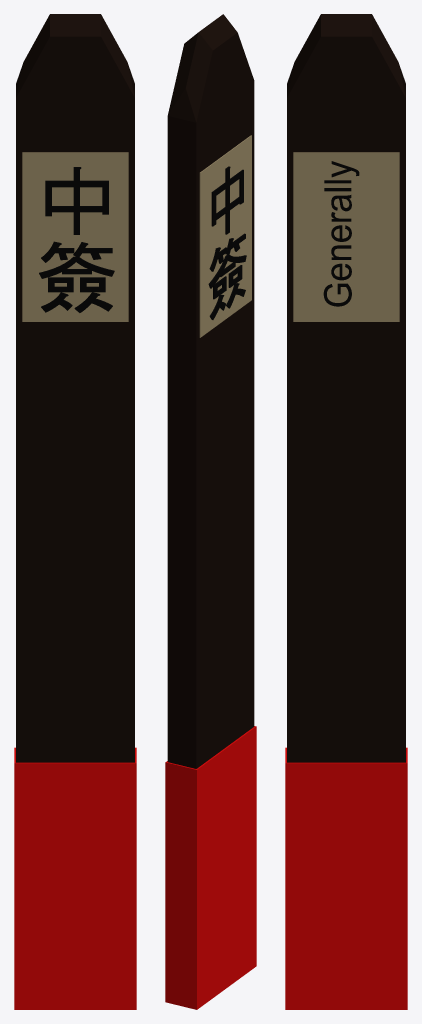
Rendered from generally.fbx.
3 renders of one model, left to right at view 1: azimuth 90°, elevation 25°; view 2: azimuth 150°, elevation 25°; view 3: azimuth 270°, elevation 25°, orthographic. The views are drawn at different scales.
Parts seen in each view (by area): view 1: Line001, Box001, Box002, 加强型文本001; view 2: Line001, Box001, Box002, 加强型文本001; view 3: Line001, Box001, Box002, 加强型文本002.
Boxes of the visible parts, x1,y1,x2,y2 form: Line001: (16,14,134,762); Box001: (14,747,136,1009); Box002: (22,152,128,321); 加强型文本001: (39,167,114,312); Line001: (167,14,254,768); Box001: (165,726,256,1009); Box002: (199,135,251,337); 加强型文本001: (208,166,246,319); Line001: (287,14,405,762); Box001: (285,747,407,1009); Box002: (293,152,399,321); 加强型文本002: (323,161,359,306).
Bounding box in the file's own units: 2.27 × 64.1 × 7.2.
